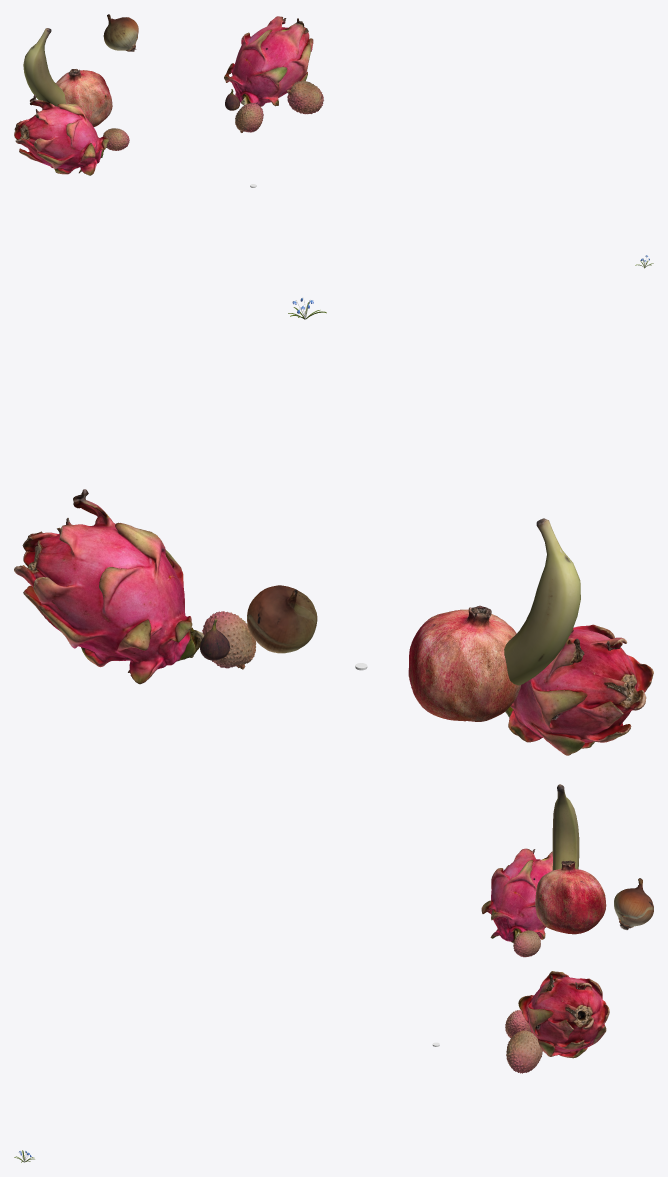
The model's file is fruits.glb.
The picture shows the model from 3 angles, top to bottom: view 1: azimuth 30°, elevation 25°; view 2: azimuth 150°, elevation 25°; view 3: azimuth 270°, elevation 25°; orthographic projection. The views are drawn at different scales.
Parts seen in each view (by area): view 1: Dragon_fruit, Lychee.001, Pomegranate (Photoscanned), Musa paradisiaca, Retopo_3DModel_mesh; view 2: Dragon_fruit, Pomegranate (Photoscanned), Musa paradisiaca, Retopo_3DModel_mesh, Lychee.001, Ficus carica; view 3: Dragon_fruit, Pomegranate (Photoscanned), Lychee.001, Musa paradisiaca, Retopo_3DModel_mesh.
Boxes of the visible parts, bbox=[...] form: Dragon_fruit: bbox=[14, 16, 313, 175]; Lychee.001: bbox=[103, 80, 323, 150]; Pomegranate (Photoscanned): bbox=[55, 69, 112, 126]; Musa paradisiaca: bbox=[23, 28, 65, 106]; Retopo_3DModel_mesh: bbox=[103, 14, 138, 51]; Dragon_fruit: bbox=[14, 489, 653, 755]; Pomegranate (Photoscanned): bbox=[408, 605, 520, 721]; Musa paradisiaca: bbox=[504, 518, 580, 685]; Retopo_3DModel_mesh: bbox=[247, 585, 317, 653]; Lychee.001: bbox=[202, 611, 256, 669]; Ficus carica: bbox=[200, 619, 229, 660]; Dragon_fruit: bbox=[481, 848, 609, 1058]; Pomegranate (Photoscanned): bbox=[535, 860, 606, 934]; Lychee.001: bbox=[505, 930, 542, 1073]; Musa paradisiaca: bbox=[552, 784, 579, 870]; Retopo_3DModel_mesh: bbox=[614, 878, 653, 929].
Bounding box in the file's own units: 3.8 × 1.37 × 4.5.
11 materials, 8 textured.
